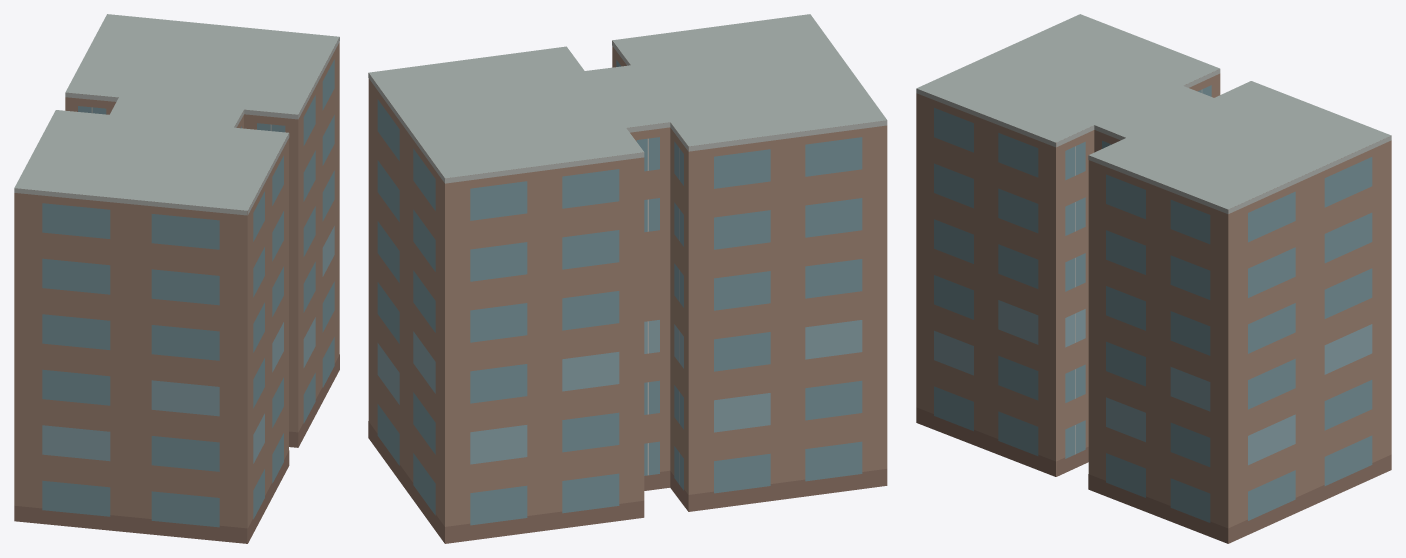
The model's file is survey-upis-32712067.glb.
3 renders of one model, left to right at view 1: azimuth 30°, elevation 25°; view 2: azimuth 150°, elevation 25°; view 3: azimuth 270°, elevation 25°, orthographic. The views are drawn at different scales.
Visible parts, largest first — view 1: survey-upis-32712067.tmp; view 2: survey-upis-32712067.tmp; view 3: survey-upis-32712067.tmp.
Part boxes in pixels (left/top/right/bottom): survey-upis-32712067.tmp: left=14, top=14, right=339, bottom=543; survey-upis-32712067.tmp: left=368, top=14, right=887, bottom=543; survey-upis-32712067.tmp: left=916, top=14, right=1391, bottom=543.
Bounding box in the file's own units: 21.65 × 17.25 × 22.24.
